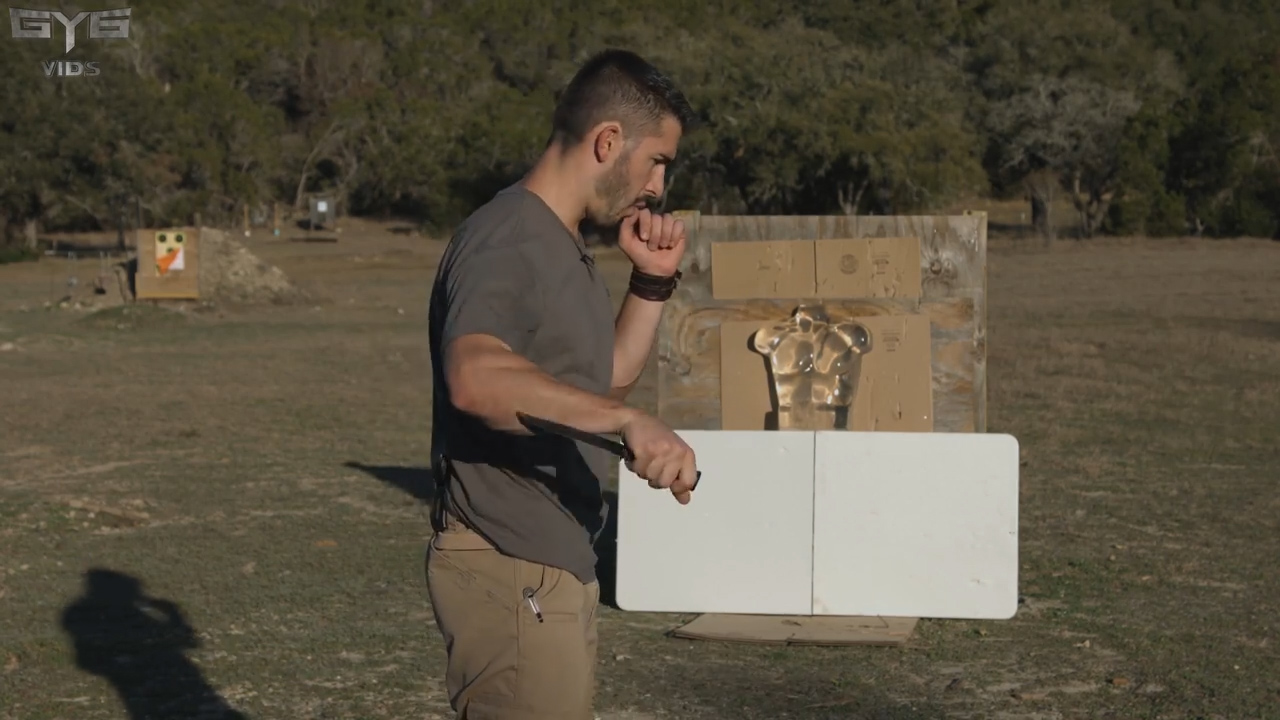knife: (508, 394, 715, 507)
